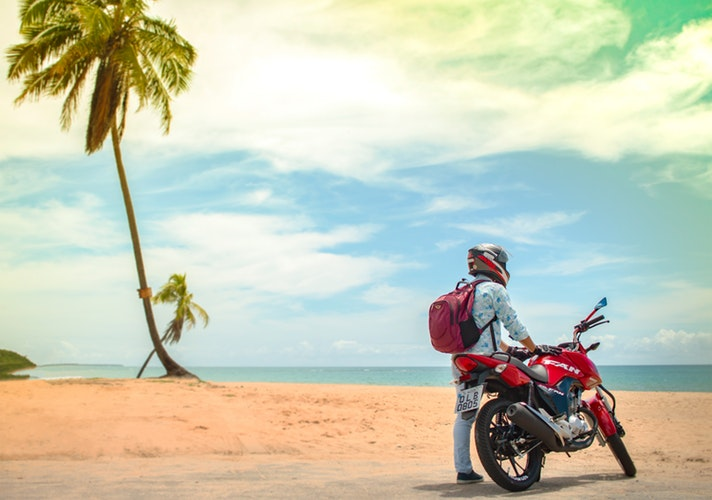helmet: (457, 239, 516, 287)
